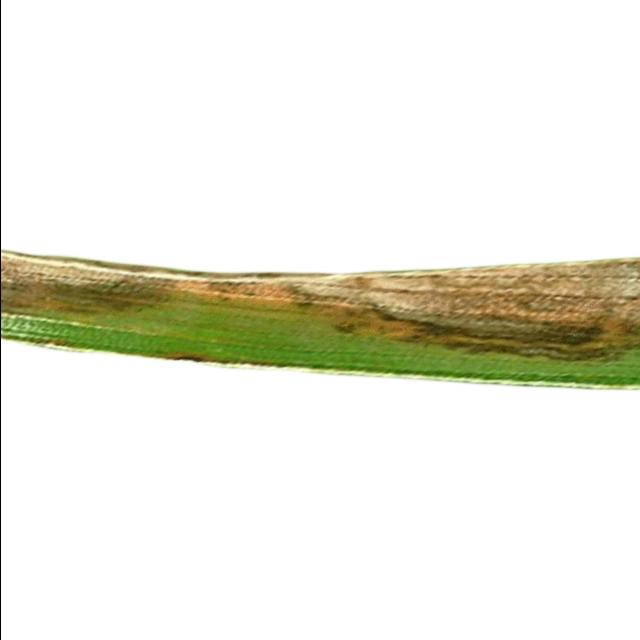Leaf scald: (0, 220, 640, 457)
